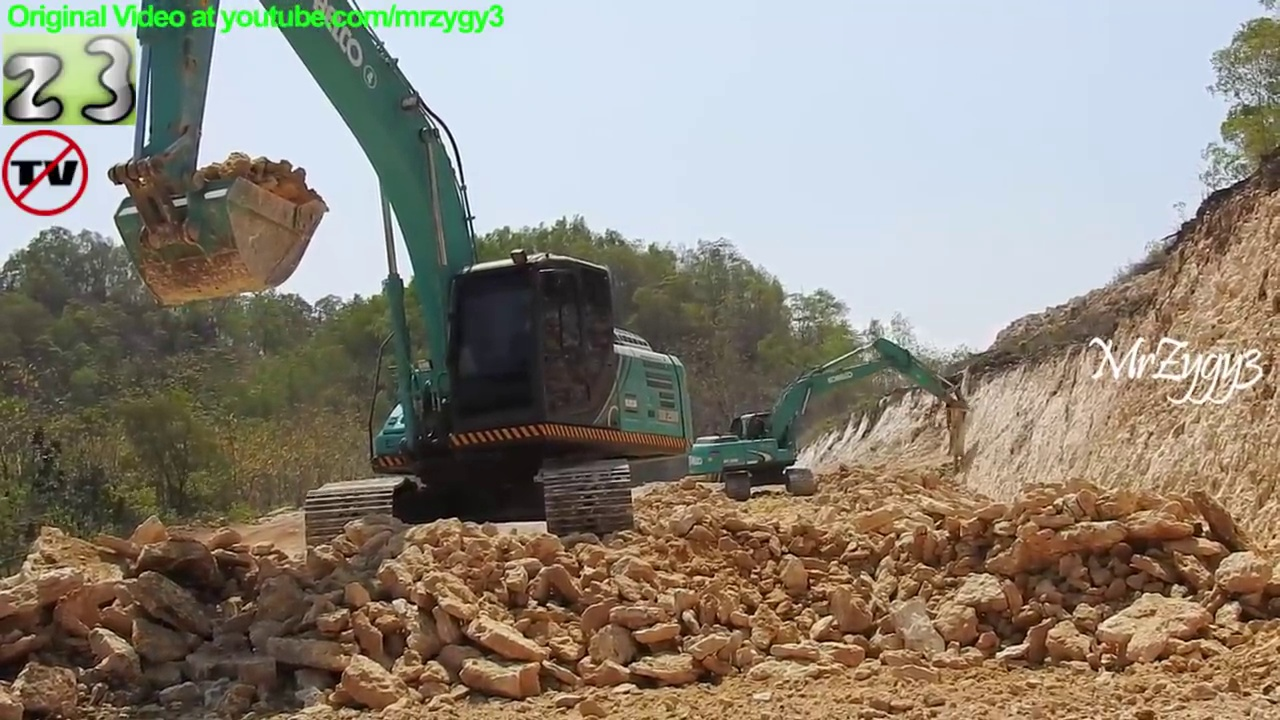excavator: (102, 1, 700, 579)
excavator breaker: (684, 333, 975, 506)
